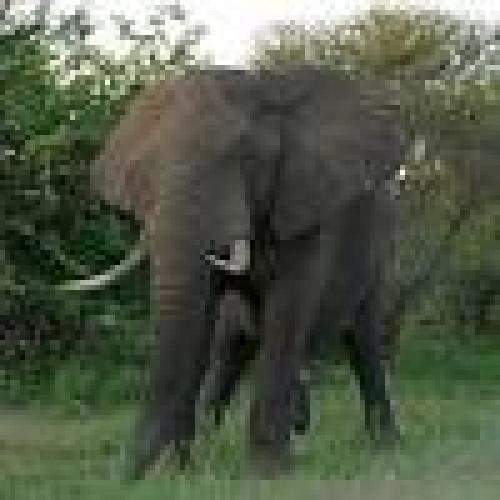asian_elephant-endangered: (56, 63, 399, 473)
